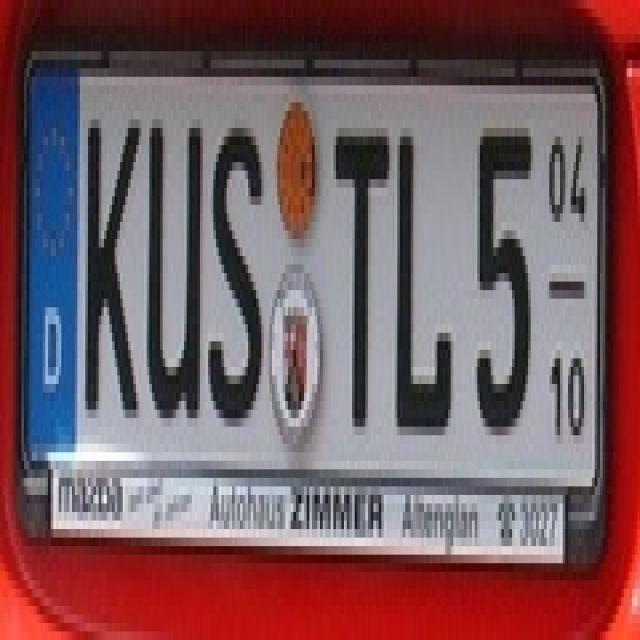licenseplate: (22, 34, 612, 566)
